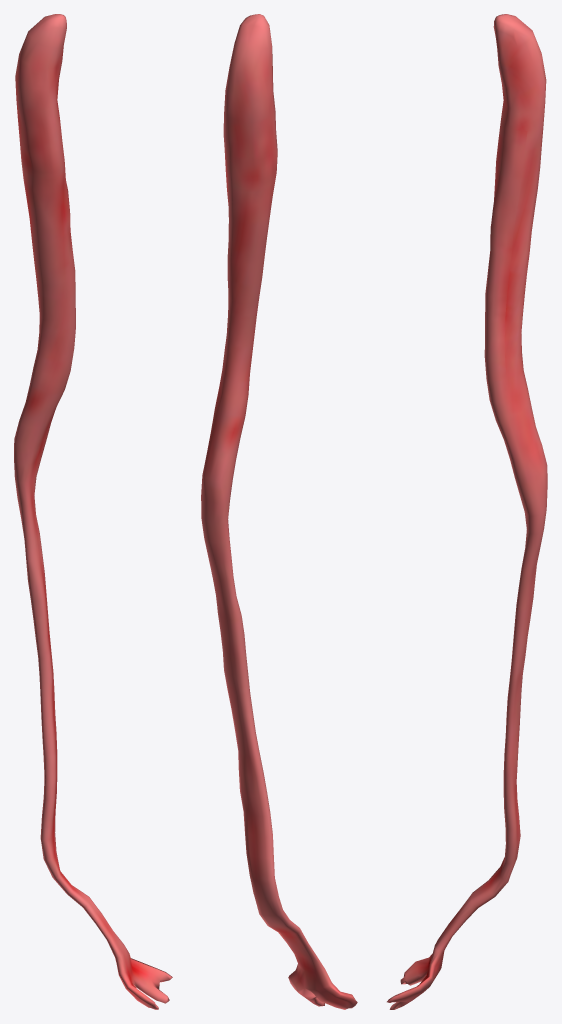
Rendered from Superficial_Digital_Flexor.glb.
3 renders of one model, left to right at view 1: azimuth 90°, elevation 25°; view 2: azimuth 150°, elevation 25°; view 3: azimuth 270°, elevation 25°, orthographic. The views are drawn at different scales.
Parts seen in each view (by area): view 1: superficial_digital_flexor1.011; view 2: superficial_digital_flexor1.011; view 3: superficial_digital_flexor1.011.
Boxes of the visible parts, x1,y1,x2,y2 form: superficial_digital_flexor1.011: [14, 14, 172, 1009]; superficial_digital_flexor1.011: [201, 14, 357, 1009]; superficial_digital_flexor1.011: [387, 14, 547, 1009].
Size of the model in its own units: 0.0739 by 0.7733 by 0.1133.
Materials: 1 (1 with a texture image).
